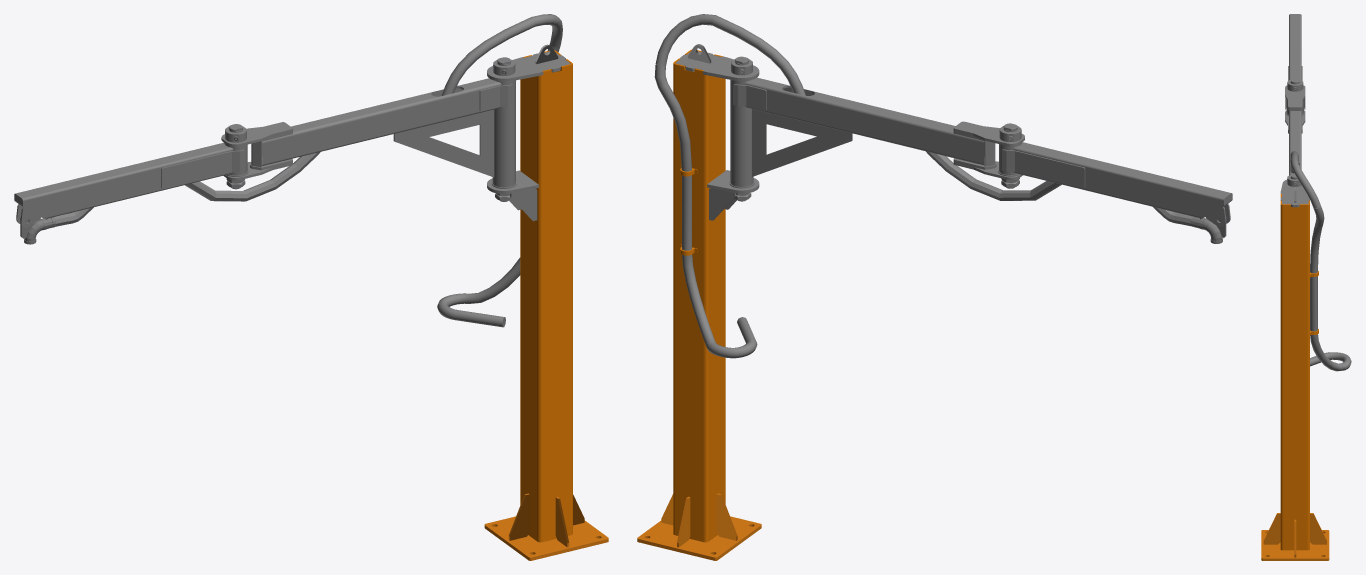
Rendered from aardwolf_all_part_Articulated Jib Crane-Two Arm@p1_-87_0_0@p2_2612_0_2119_X.fbx.
3 views of the same model, side by side, from view 1: azimuth 30°, elevation 25°; view 2: azimuth 150°, elevation 25°; view 3: azimuth 270°, elevation 25° (orthographic). The views are drawn at different scales.
Parts seen in each view (by area): view 1: Shape153, aardwolf_all_part_obj331, aardwolf_all_part_obj330, aardwolf_all_part_obj333, Object113, aardwolf_all_part_obj332, Object111, aardwolf_all_part_obj329, aardwolf_all_part_obj334, Object112; view 2: Shape153, aardwolf_all_part_obj331, aardwolf_all_part_obj330, aardwolf_all_part_obj333, Object113, aardwolf_all_part_obj332, Object111, aardwolf_all_part_obj329, aardwolf_all_part_obj334, Object112; view 3: Shape153, Object113, Object111, aardwolf_all_part_obj330, Object112, aardwolf_all_part_obj332, aardwolf_all_part_obj331, aardwolf_all_part_obj334, aardwolf_all_part_obj333.
Part boxes in pixels (bbox=[...]): Shape153: bbox=[520, 67, 572, 542]; aardwolf_all_part_obj331: bbox=[262, 78, 513, 165]; aardwolf_all_part_obj330: bbox=[14, 142, 244, 227]; aardwolf_all_part_obj333: bbox=[393, 57, 538, 221]; Object113: bbox=[437, 14, 562, 327]; aardwolf_all_part_obj332: bbox=[221, 122, 292, 189]; Object111: bbox=[484, 516, 608, 560]; aardwolf_all_part_obj329: bbox=[54, 152, 320, 226]; aardwolf_all_part_obj334: bbox=[487, 44, 572, 81]; Object112: bbox=[508, 493, 584, 547]; Shape153: bbox=[673, 67, 725, 542]; aardwolf_all_part_obj331: bbox=[733, 77, 984, 165]; aardwolf_all_part_obj330: bbox=[1001, 142, 1232, 226]; aardwolf_all_part_obj333: bbox=[707, 56, 852, 220]; Object113: bbox=[654, 14, 805, 358]; aardwolf_all_part_obj332: bbox=[953, 121, 1024, 188]; Object111: bbox=[637, 516, 761, 560]; aardwolf_all_part_obj329: bbox=[926, 151, 1192, 226]; aardwolf_all_part_obj334: bbox=[673, 44, 759, 81]; Object112: bbox=[661, 493, 737, 547]; Shape153: bbox=[1280, 207, 1309, 550]; Object113: bbox=[1290, 151, 1351, 371]; Object111: bbox=[1261, 530, 1329, 560]; aardwolf_all_part_obj330: bbox=[1285, 14, 1305, 109]; Object112: bbox=[1263, 513, 1326, 557]; aardwolf_all_part_obj332: bbox=[1285, 78, 1305, 133]; aardwolf_all_part_obj331: bbox=[1289, 111, 1301, 175]; aardwolf_all_part_obj334: bbox=[1280, 179, 1309, 207]; aardwolf_all_part_obj333: bbox=[1287, 173, 1301, 186].
Bounding box in the file's own units: 2844 × 2496 × 532.
